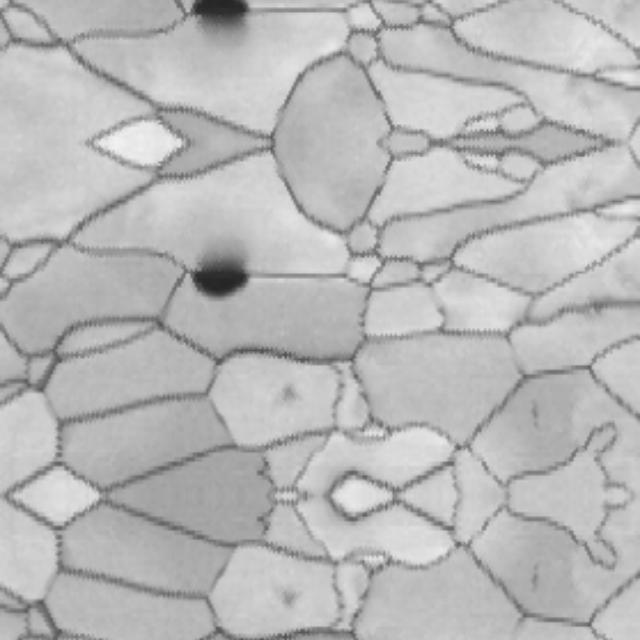good_void: (187, 248, 253, 305), (187, 0, 253, 39), (275, 376, 311, 411), (275, 583, 311, 618), (522, 392, 549, 433), (522, 561, 549, 602), (571, 293, 610, 321)
